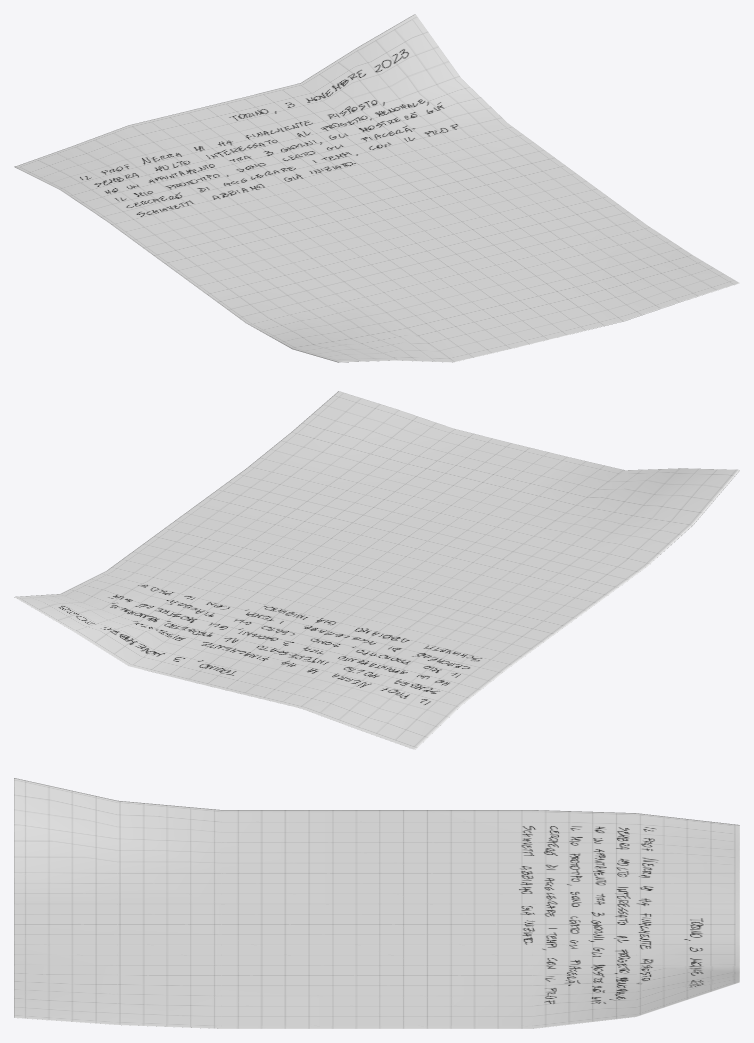
Rendered from Pagina2.fbx.
The picture shows the model from 3 angles, top to bottom: view 1: azimuth 30°, elevation 25°; view 2: azimuth 150°, elevation 25°; view 3: azimuth 270°, elevation 25°; orthographic projection. The views are drawn at different scales.
Visible parts, largest first — view 1: Pagina2; view 2: Pagina2; view 3: Pagina2.
Part boxes in pixels (left/top/right/bottom): Pagina2: left=14, top=14, right=739, bottom=362; Pagina2: left=14, top=391, right=739, bottom=749; Pagina2: left=14, top=778, right=739, bottom=1028.
Size of the model in its own units: 48.44 by 6.32 by 67.88.
